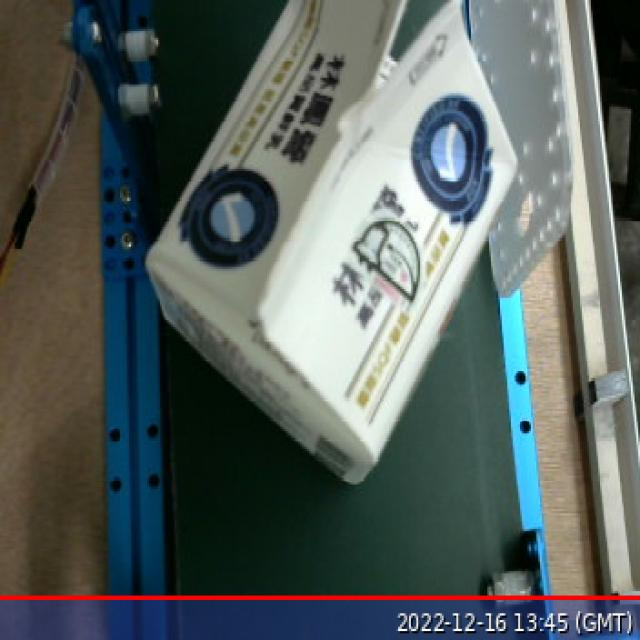non_white_jug: (133, 0, 536, 508)
